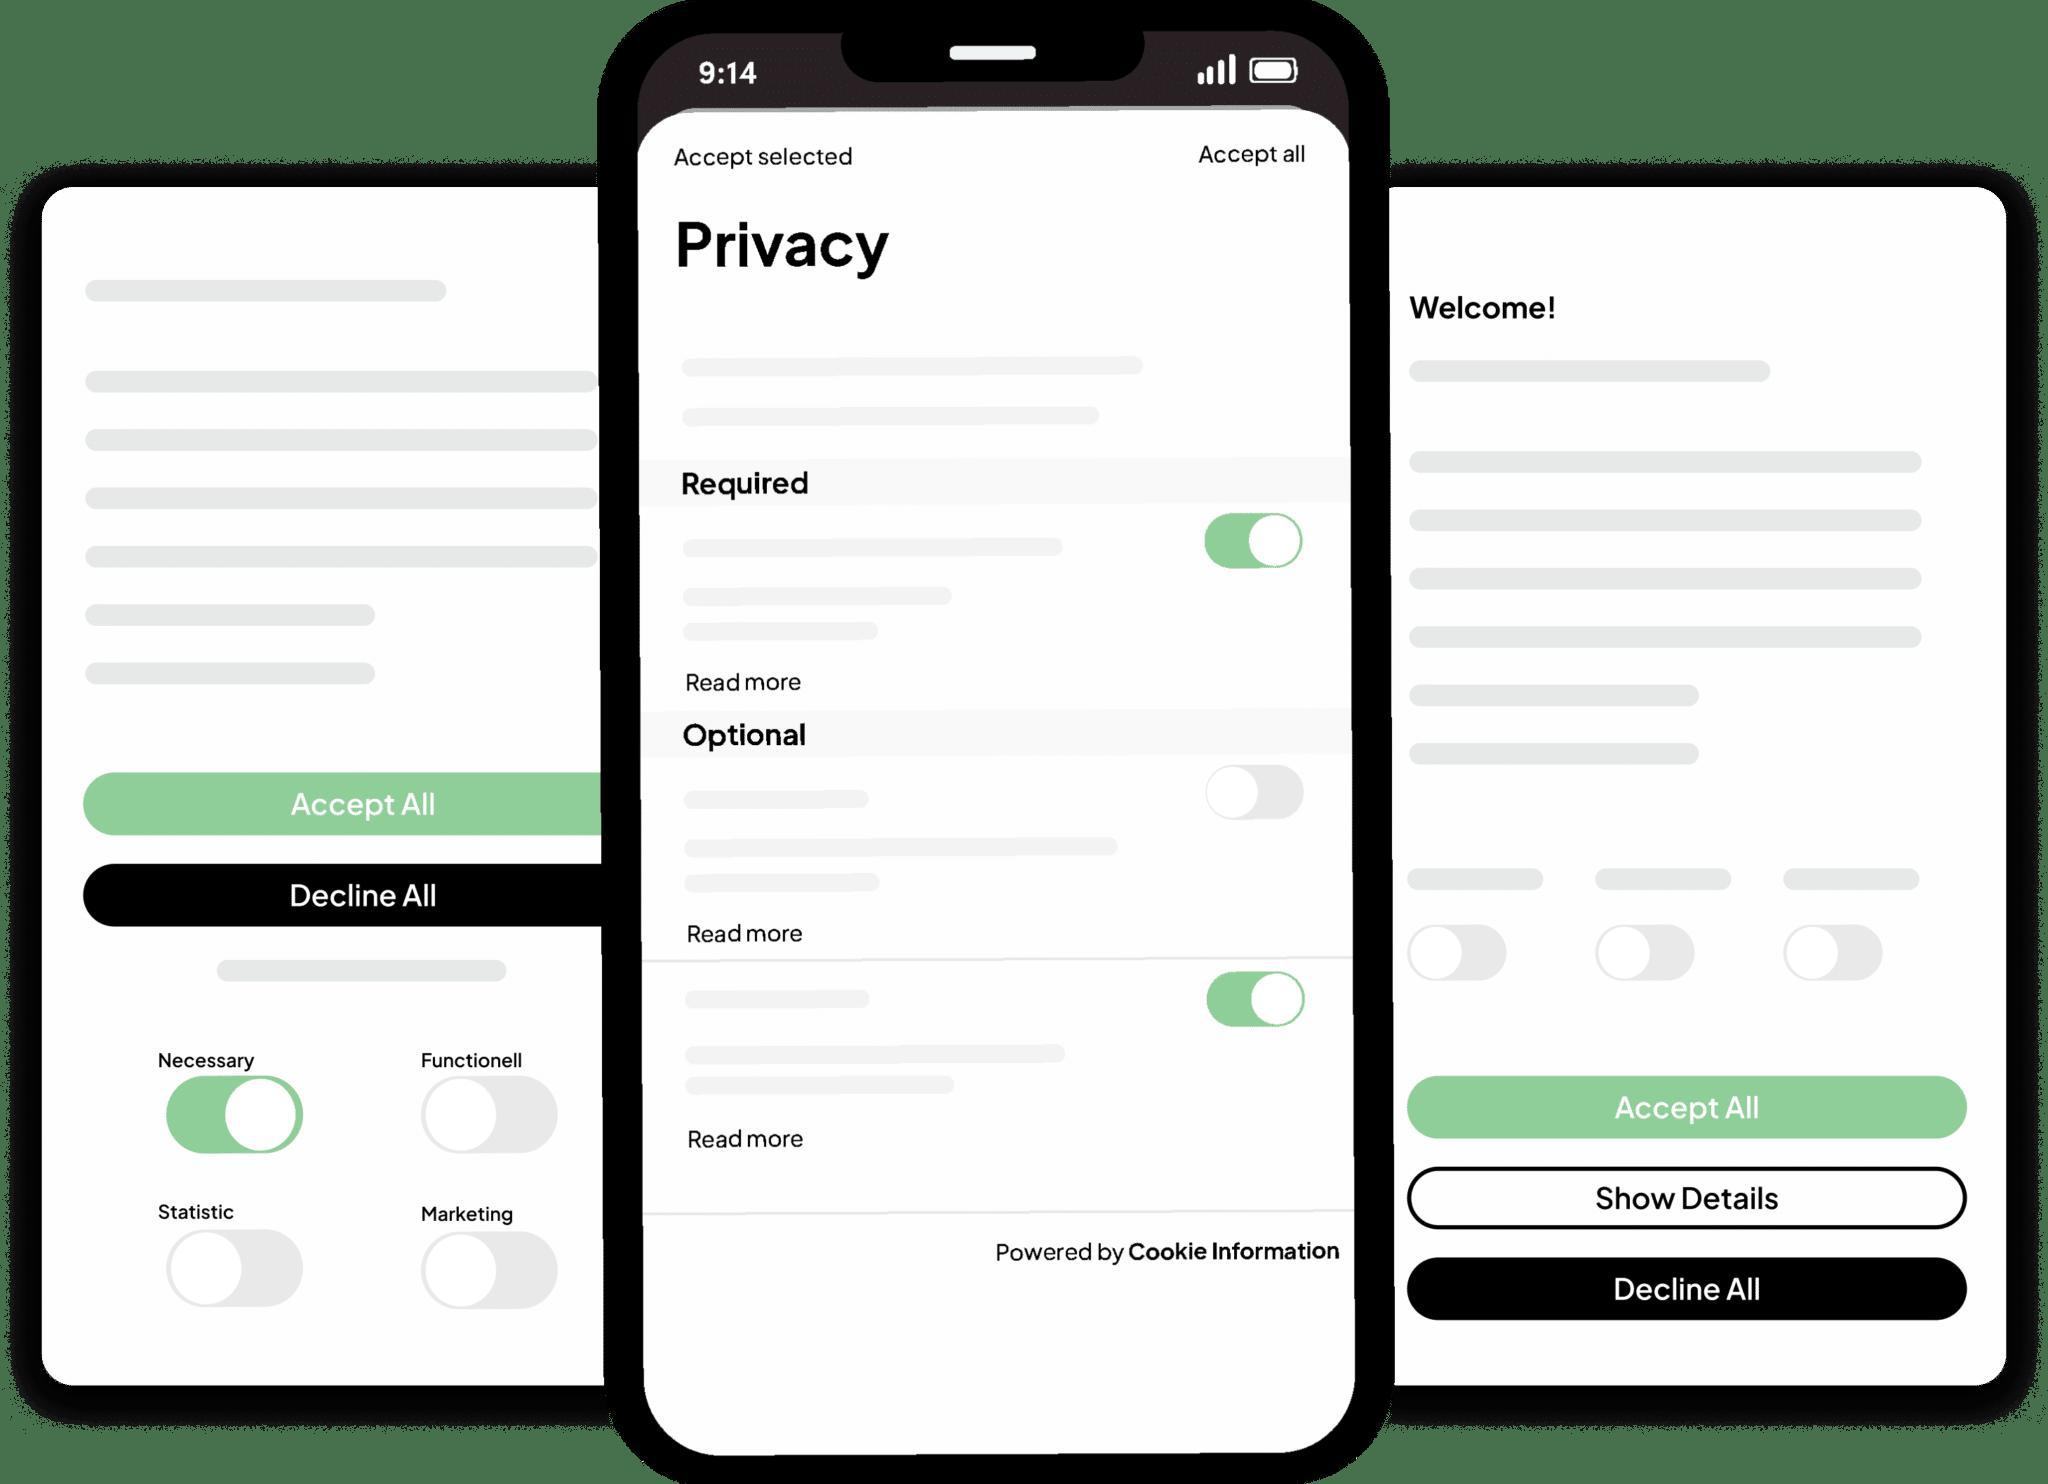button: (1404, 1257, 1972, 1328), (1407, 1166, 1967, 1231), (1410, 1077, 1967, 1140), (86, 860, 603, 929), (86, 771, 599, 838)
label: (661, 207, 902, 291), (676, 460, 825, 503), (1410, 286, 1565, 328), (679, 722, 813, 752), (418, 1199, 517, 1231), (421, 1047, 523, 1075), (149, 1045, 259, 1070), (153, 1199, 240, 1223)
switch: (156, 1225, 312, 1312), (157, 1074, 318, 1156), (415, 1075, 564, 1158), (417, 1236, 566, 1317), (1407, 918, 1511, 989), (1592, 924, 1706, 988), (1205, 759, 1305, 829), (1779, 921, 1884, 988), (1204, 969, 1309, 1031), (1204, 511, 1304, 574)
